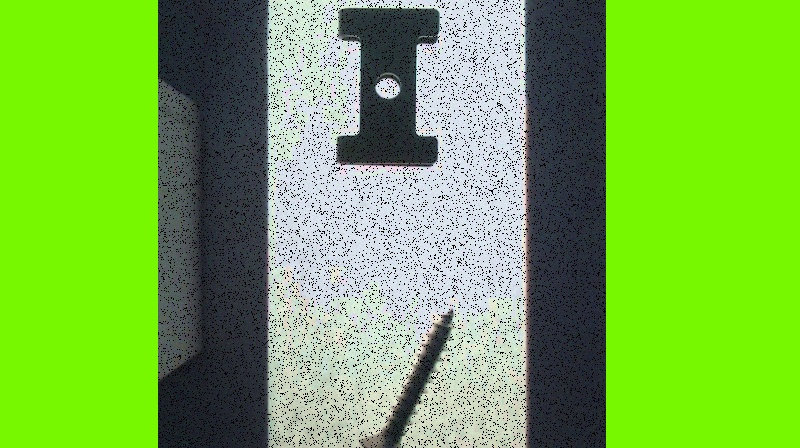O002: (333, 8, 440, 169)
S001: (359, 308, 453, 447)
